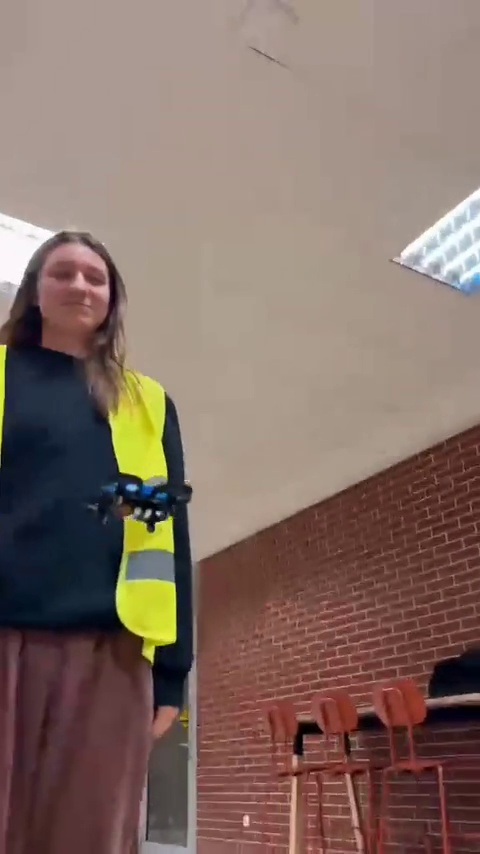drone: (86, 476, 201, 526)
vest: (5, 232, 210, 854)
